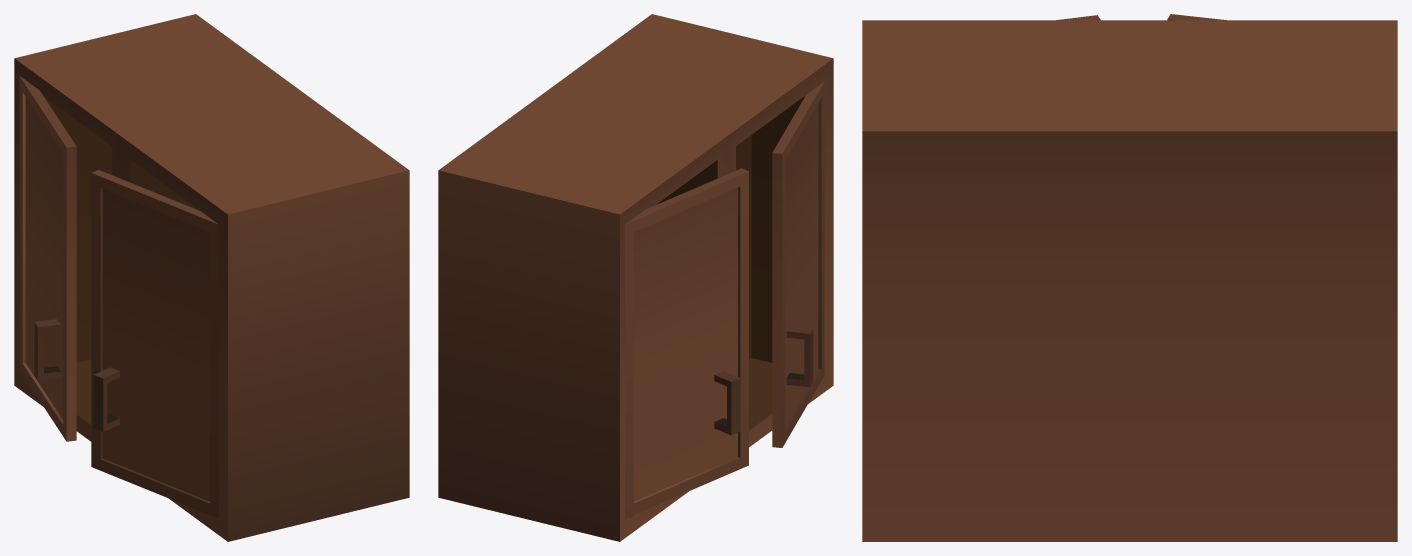
File: ST_cabinet_Open.fbx
The picture shows the model from 3 angles, left to right: view 1: azimuth 30°, elevation 25°; view 2: azimuth 150°, elevation 25°; view 3: azimuth 270°, elevation 25°; orthographic projection. The views are drawn at different scales.
Visible parts, largest first — view 1: ST_cabinet_Open; view 2: ST_cabinet_Open; view 3: ST_cabinet_Open.
Part boxes in pixels (bbox=[...]): ST_cabinet_Open: bbox=[14, 14, 409, 541]; ST_cabinet_Open: bbox=[438, 14, 833, 541]; ST_cabinet_Open: bbox=[862, 14, 1397, 541].
Bounding box in the file's own units: 47.3 × 62.42 × 73.79.
